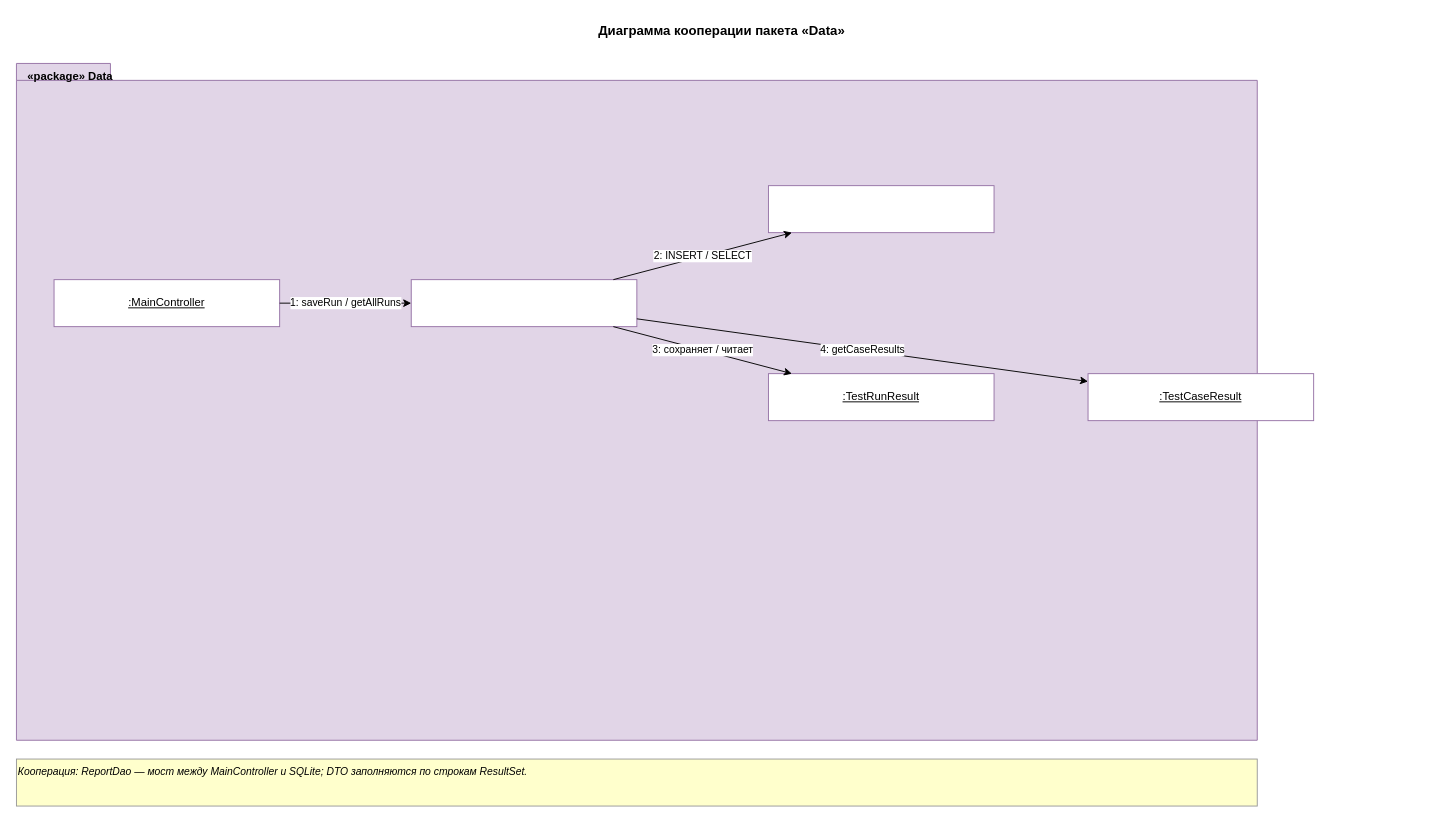
Some shapes in this 1443 by 823 pixel diagram are drawn without their labels. The shapes that lost their labels are listed below. From the top down, each one's centre as x and y in pixels, then its label:
the point at 881,209: :SQLite
the point at 523,303: :ReportDao
